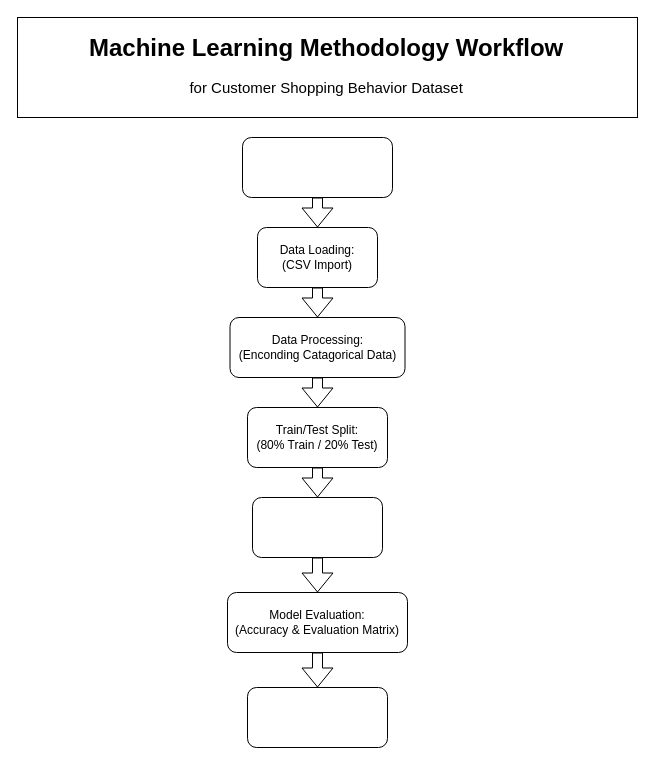
Image size: 655x765. Some labels were removed from this diagram. The shapes that lost their labels are listed below. From the top down, each one's centre as x and y in pixels, then its label:
pixel 317 167: Data Selection: (Shopping Behavior Data)
pixel 317 527: Model Training: (Logistic Regression)
pixel 317 717: Results: (Predicted Outcomes)
